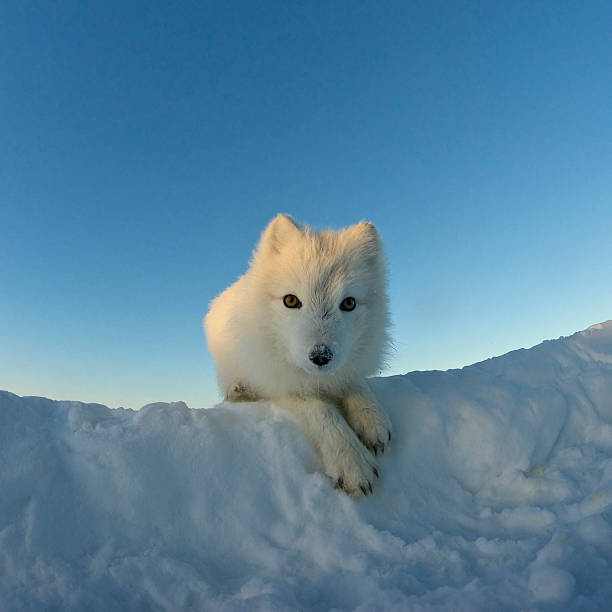arcticfox: (269, 254, 377, 398)
